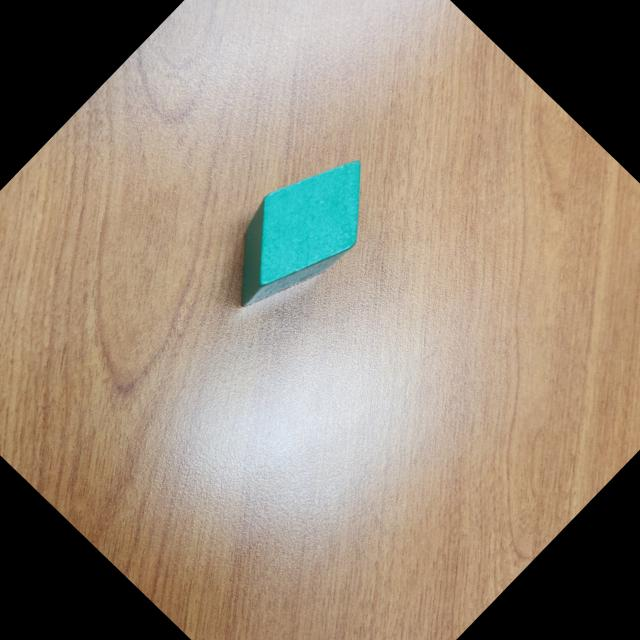green: (200, 130, 399, 332)
